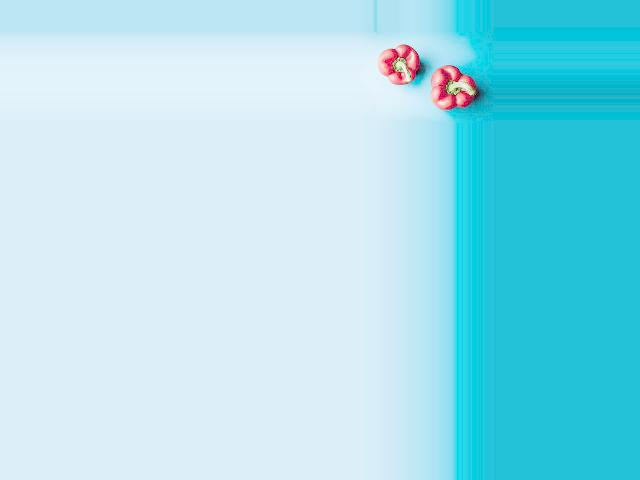bell_pepper: (421, 59, 481, 109)
